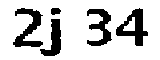2: (11, 4, 44, 48)
3: (84, 4, 113, 50)
4: (116, 5, 152, 49)
j: (41, 2, 68, 60)
